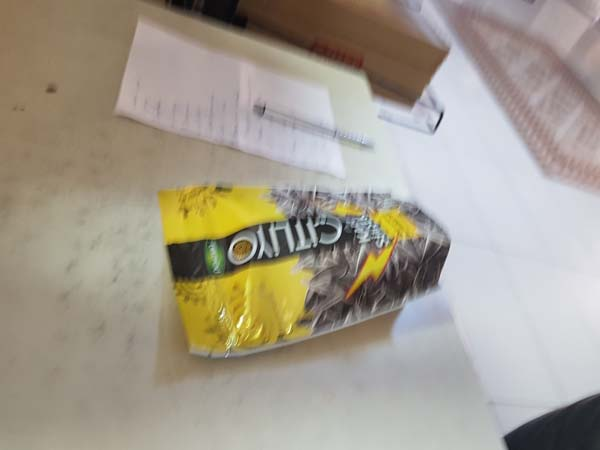citliyokarasimsek: (151, 182, 463, 358)
